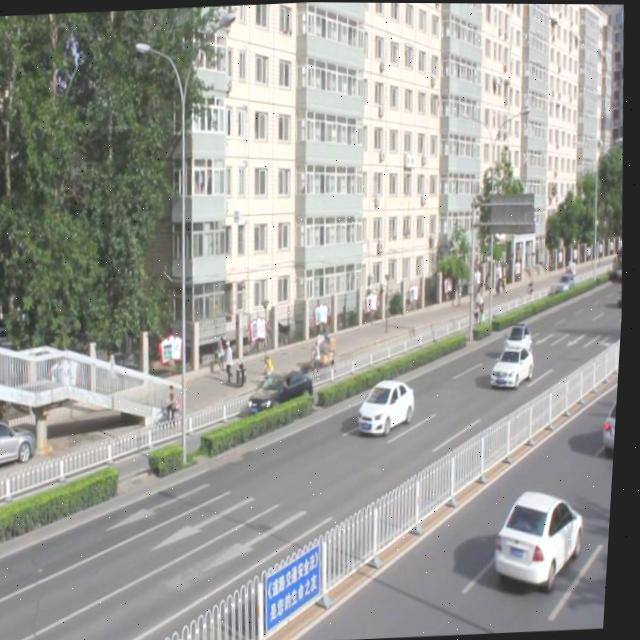car: (496, 485, 593, 587), (358, 376, 421, 436), (250, 366, 319, 413), (490, 340, 538, 390), (502, 320, 537, 358), (602, 392, 622, 458)
